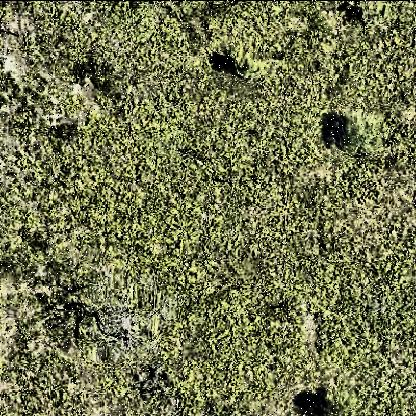tree-top: (98, 290, 151, 350), (322, 113, 360, 151), (217, 49, 259, 80), (313, 382, 348, 416)
